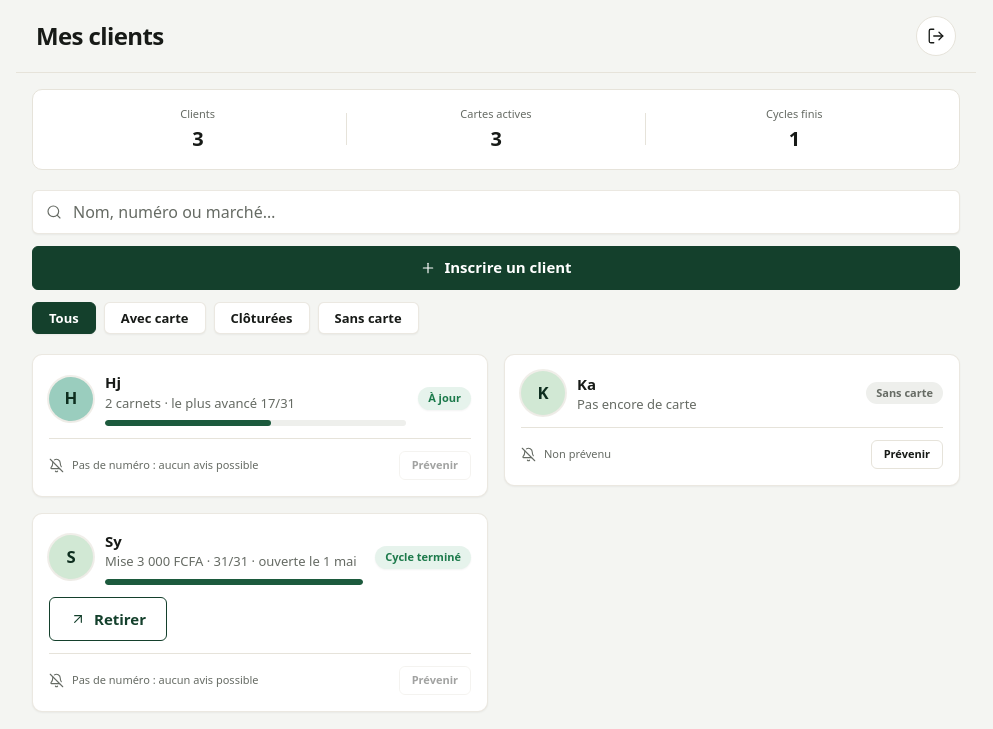
it: recherche de client › trouve un client par son numéro de téléphone
The image size is (993, 729).
Check: the text "Hj" is shown, box left=105, top=372, right=121, bottom=392
Type "0708" into the field named "Rechercher un client". click: {"x": 496, "y": 212}
box: left=32, top=190, right=960, bottom=234
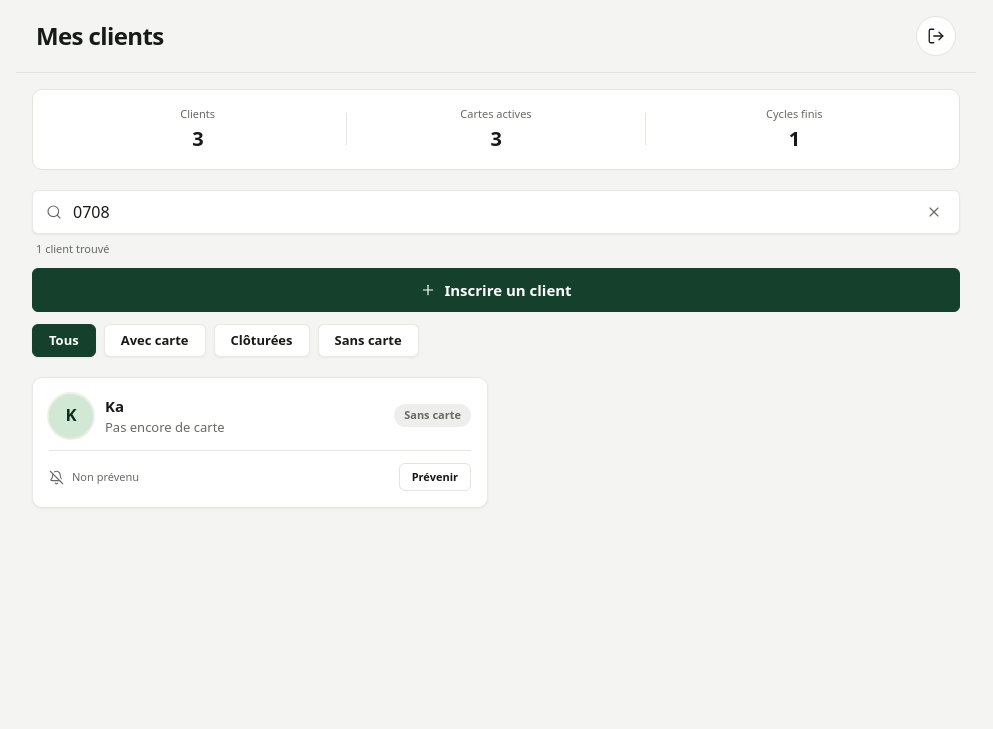
Check: the text "Ka" is shown, box left=105, top=396, right=124, bottom=416
Check: the button "Hj" is gone
